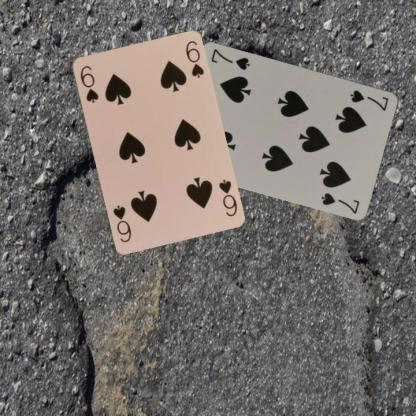6s: (77, 62, 100, 104), (216, 176, 238, 218)
7s: (347, 87, 390, 112)
